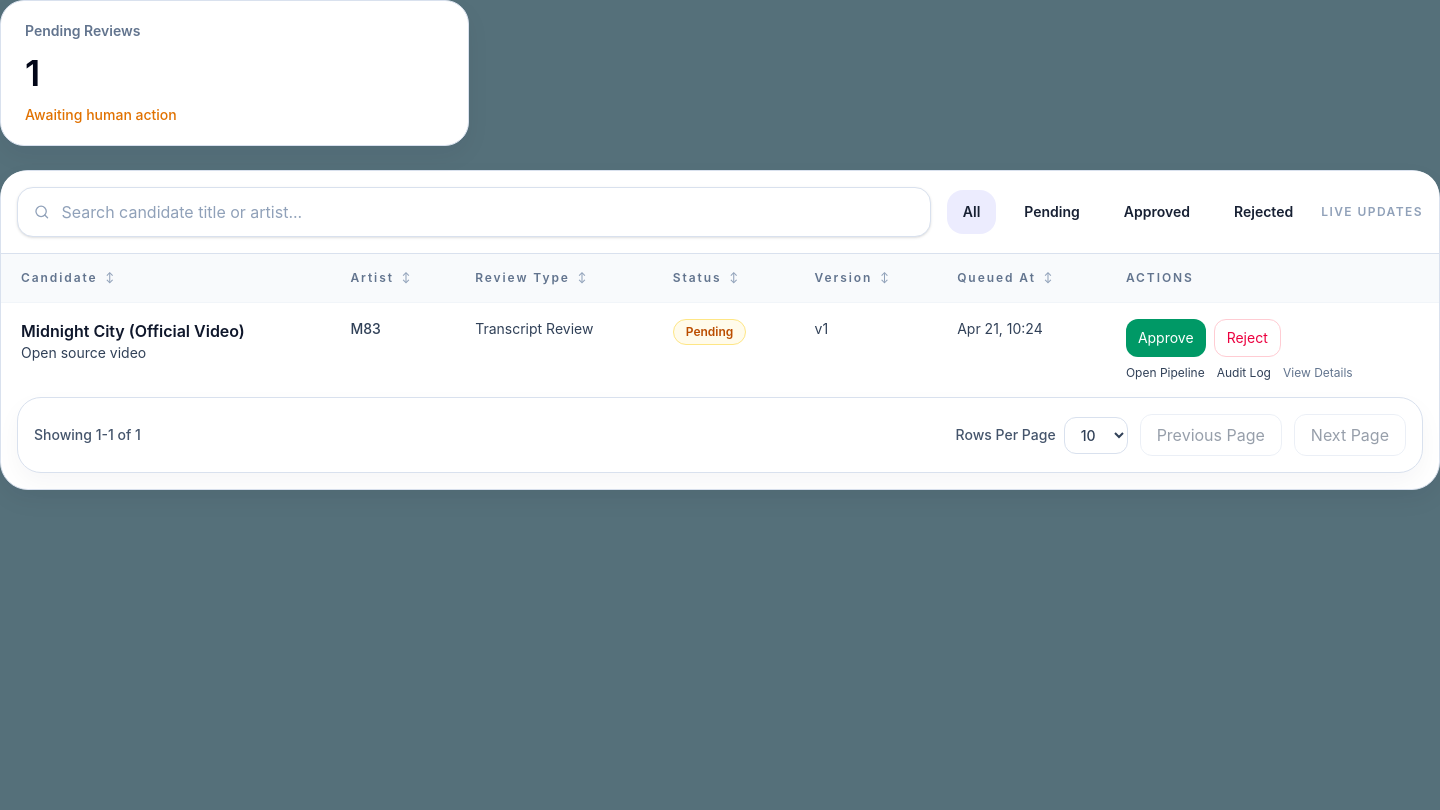
Scenario: QueueDashboardClient › loads transcript, taste and translation details from the queue page
Click the button "View Details": (1318, 373) [1283, 365, 1353, 381]
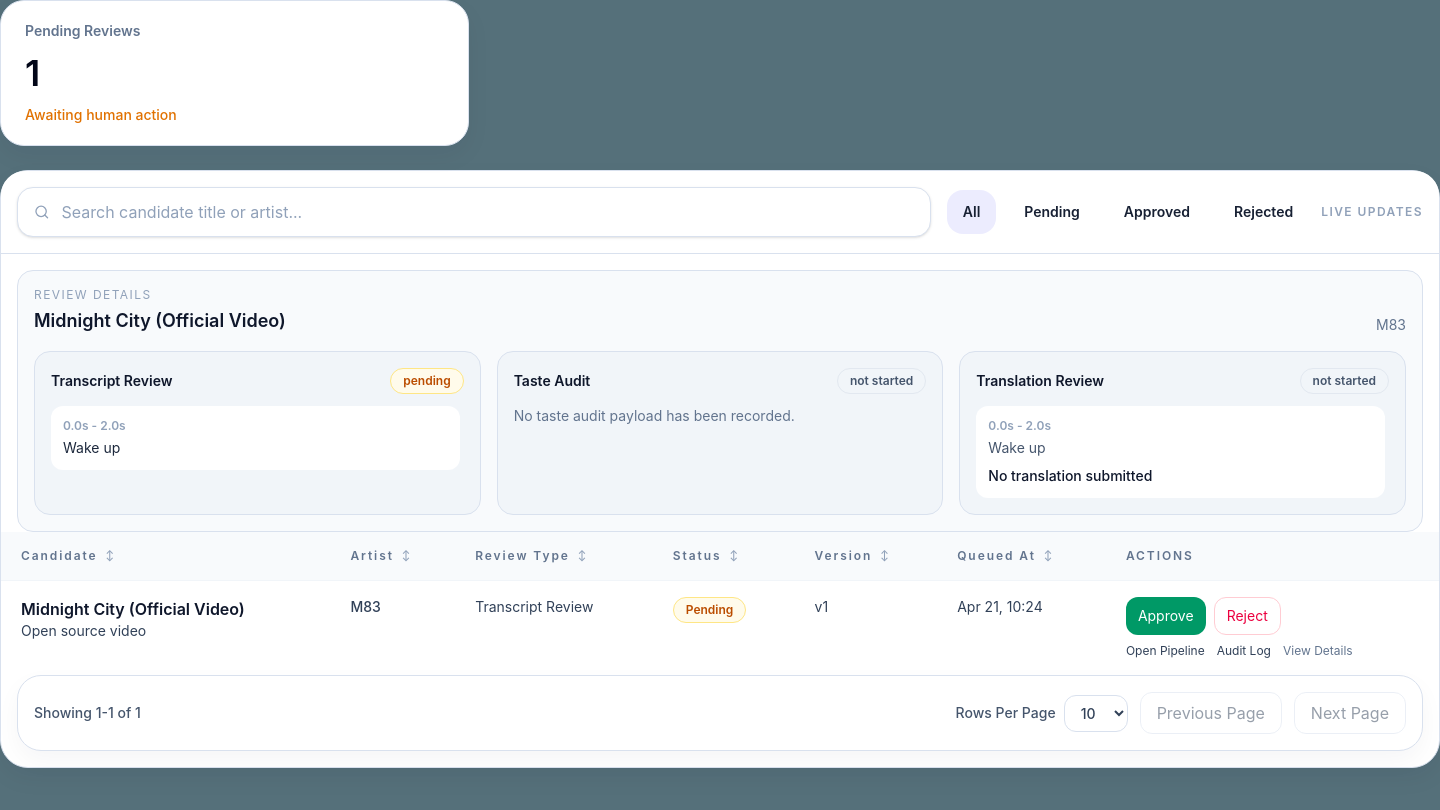
Now the text "Review Details" is shown, box [34, 287, 152, 302]
Now the 1st text "Wake up" is shown, box [63, 439, 120, 456]
Now the button "View Details" is expanded, box [1283, 643, 1353, 659]
